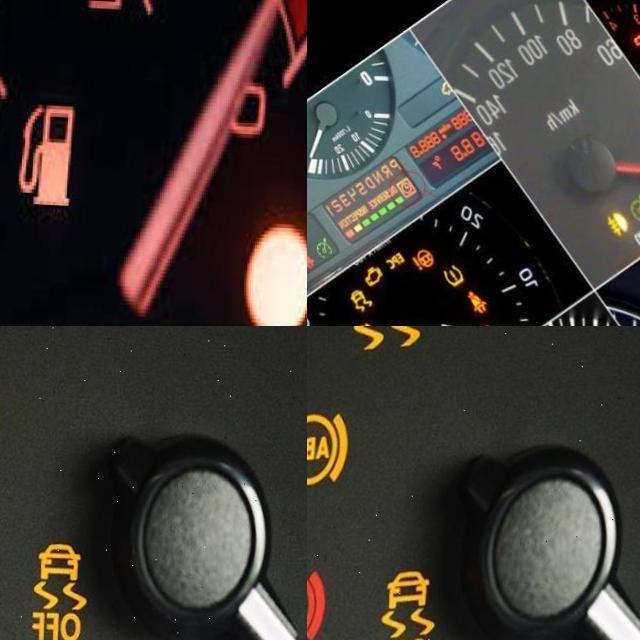Electronic Power Steering: (416, 245, 438, 270)
Seat Belt: (469, 286, 495, 315)
